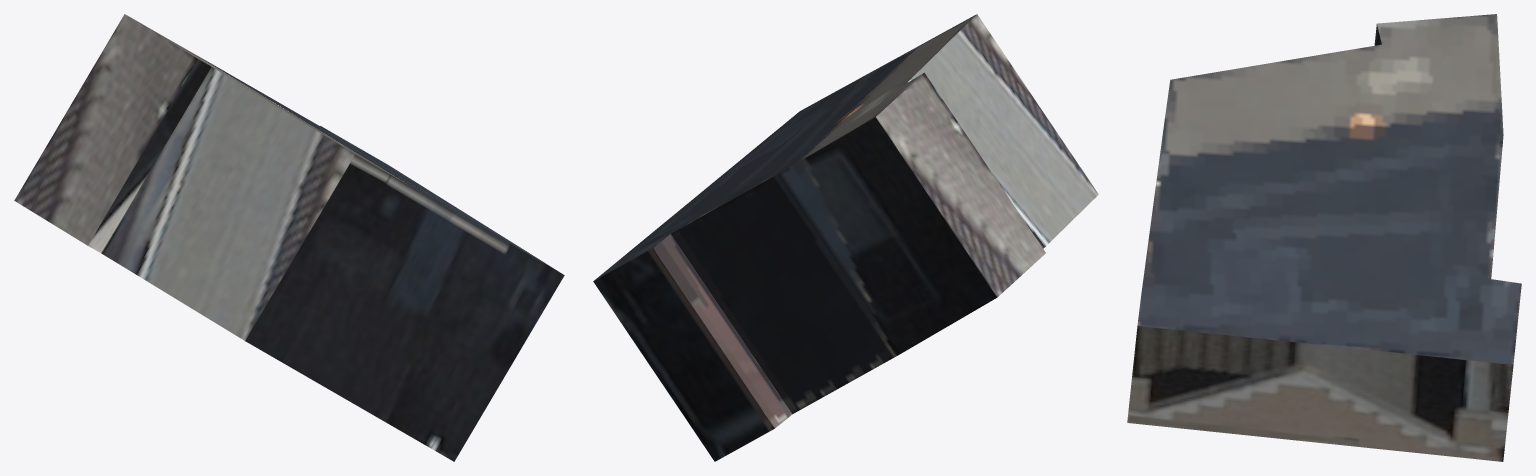
The picture shows the model from 3 angles, left to right: view 1: azimuth 30°, elevation 25°; view 2: azimuth 150°, elevation 25°; view 3: azimuth 270°, elevation 25°; orthographic projection. The views are drawn at different scales.
Parts seen in each view (by area): view 1: BAG_0599100010059655 (×3); view 2: BAG_0599100010059655 (×3); view 3: BAG_0599100010059655.
Part boxes in pixels (left/top/right/bottom): BAG_0599100010059655 (×3): left=14, top=14, right=564, bottom=461; BAG_0599100010059655 (×3): left=593, top=14, right=1098, bottom=461; BAG_0599100010059655: left=1127, top=14, right=1521, bottom=461.
Size of the model in its own units: 5.3 by 4.94 by 4.74.
Materials: 1 (1 with a texture image).
